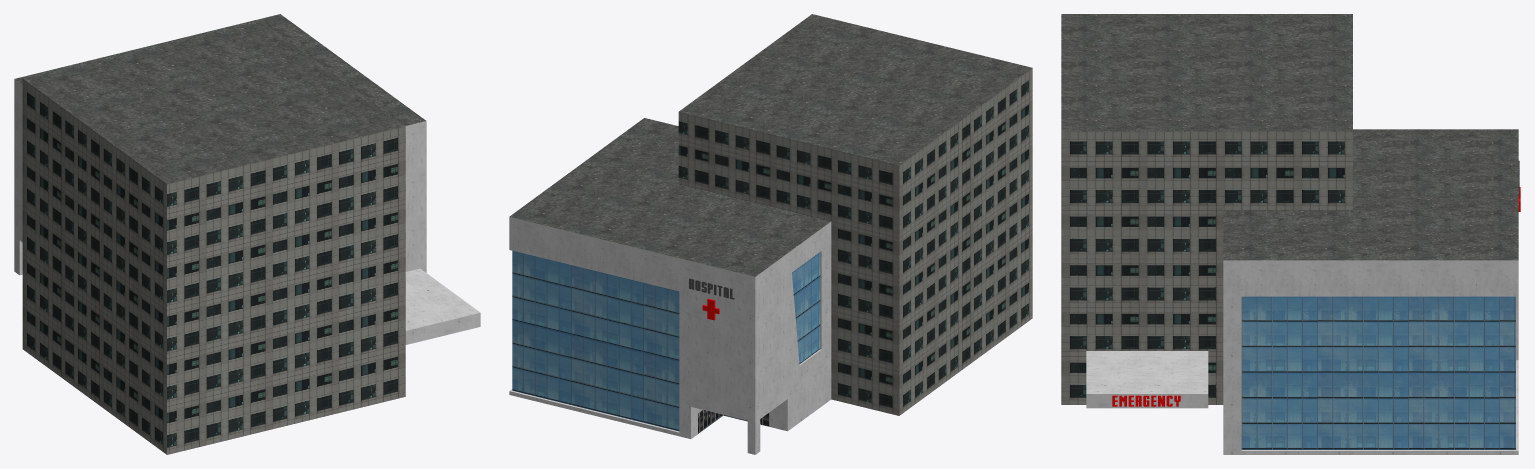
File: HospitalBuilding.fbx
3 renders of one model, left to right at view 1: azimuth 30°, elevation 25°; view 2: azimuth 150°, elevation 25°; view 3: azimuth 270°, elevation 25°, orthographic. The views are drawn at different scales.
Parts seen in each view (by area): view 1: Model; view 2: Model; view 3: Model, EMERGENCY1.
Part boxes in pixels (<box>): Model: <box>14,14,480,454</box>; Model: <box>509,14,1032,454</box>; Model: <box>1061,14,1520,454</box>; EMERGENCY1: <box>1112,395,1180,406</box>.
Size of the model in its own units: 1767 by 1346 by 2048.
